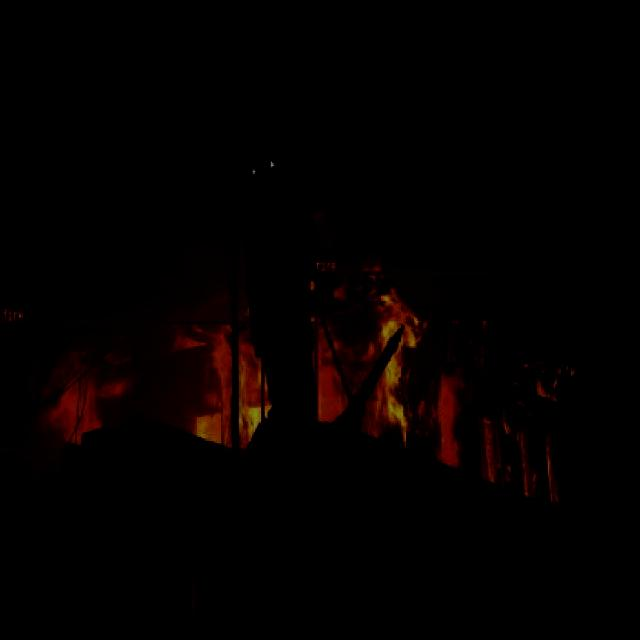fire: (314, 270, 588, 504), (1, 320, 264, 452)
